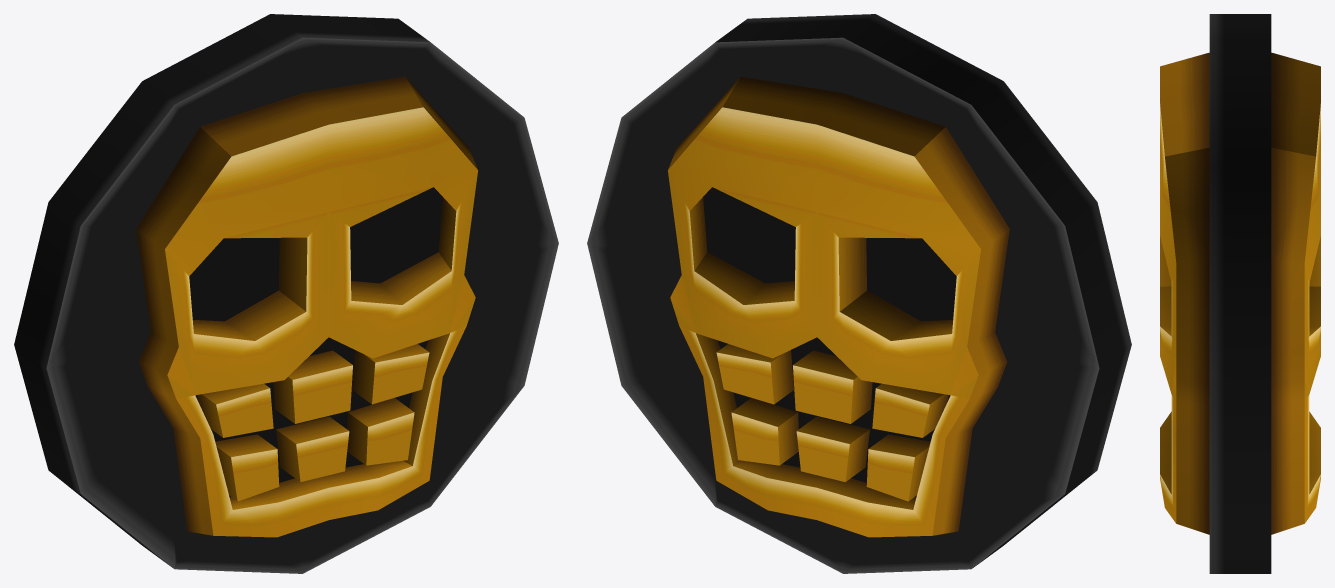
The model's file is static.ico.obj.
The picture shows the model from 3 angles, left to right: view 1: azimuth 30°, elevation 25°; view 2: azimuth 150°, elevation 25°; view 3: azimuth 270°, elevation 25°; orthographic projection. The views are drawn at different scales.
Size of the model in its own units: 5 by 5 by 1.43.
Materials: 1 (1 with a texture image).
